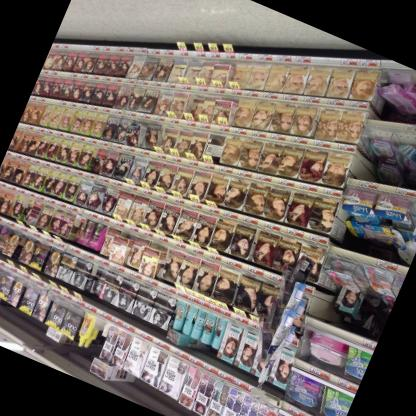empty_space: (95, 317, 109, 342)
